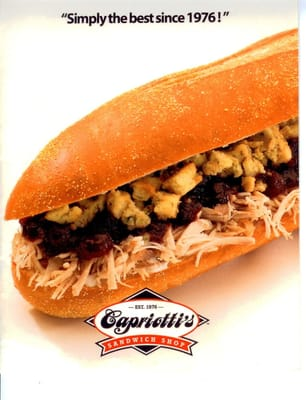soup: (4, 27, 300, 322)
